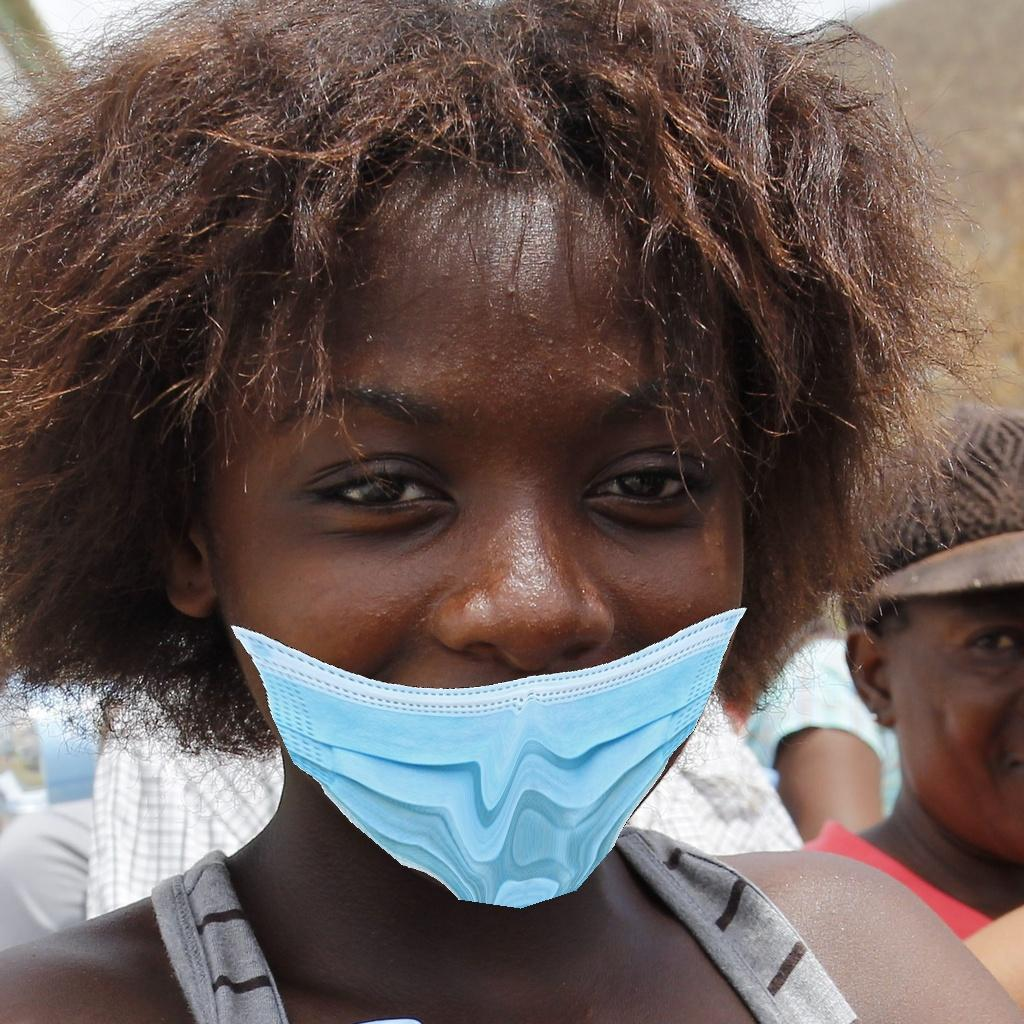Máscara Incorreta: (219, 301, 752, 919)
